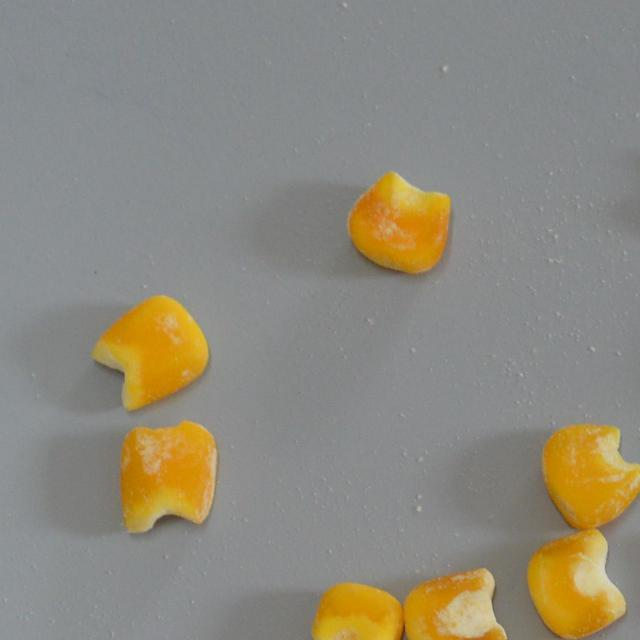no_canjicado: (310, 580, 404, 640)
pelicula: (90, 292, 210, 412), (116, 418, 218, 536), (525, 529, 627, 640), (346, 171, 450, 275), (539, 423, 640, 530), (403, 566, 507, 640)
